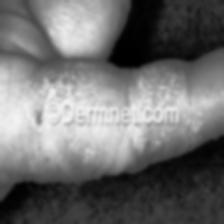Non-Cancerous Skin Condition: (141, 67, 175, 107), (66, 125, 96, 165), (131, 128, 159, 160), (42, 71, 70, 101)
